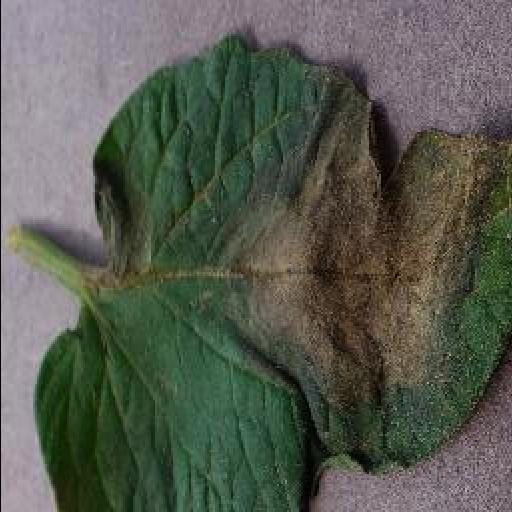disease_tomato: (32, 36, 512, 512)
